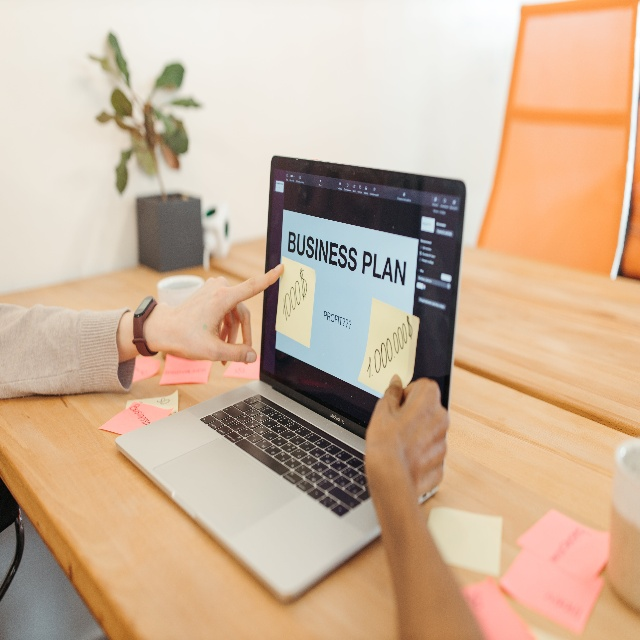Sin_guantes: (161, 260, 284, 366), (365, 374, 451, 500)
